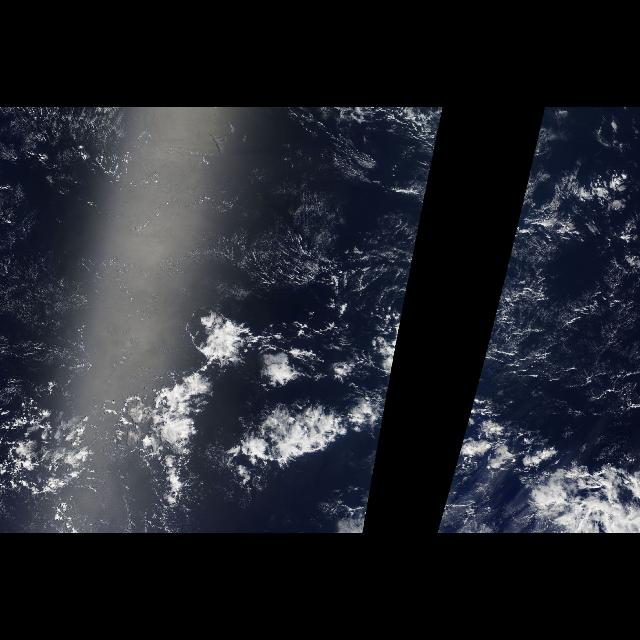Fish: (109, 292, 407, 512)
Gravel: (2, 399, 212, 509)
Sugar: (2, 108, 444, 400), (468, 109, 636, 414)
